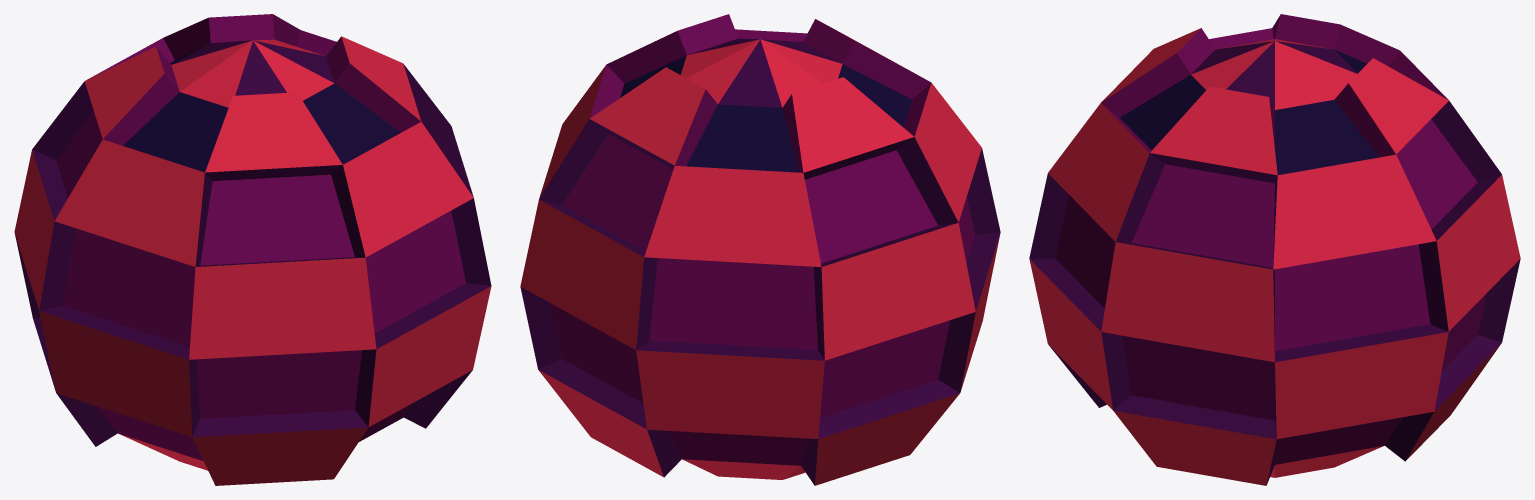
The model's file is moving_trap.fbx.
The picture shows the model from 3 angles, left to right: view 1: azimuth 30°, elevation 25°; view 2: azimuth 150°, elevation 25°; view 3: azimuth 270°, elevation 25°; orthographic projection.
Parts seen in each view (by area): view 1: Sphere; view 2: Sphere; view 3: Sphere.
Boxes of the visible parts, x1=… form: Sphere: x1=14, y1=14, x2=491, y2=485; Sphere: x1=520, y1=14, x2=1000, y2=485; Sphere: x1=1029, y1=14, x2=1520, y2=485.
Size of the model in its own units: 224 by 214 by 224.
